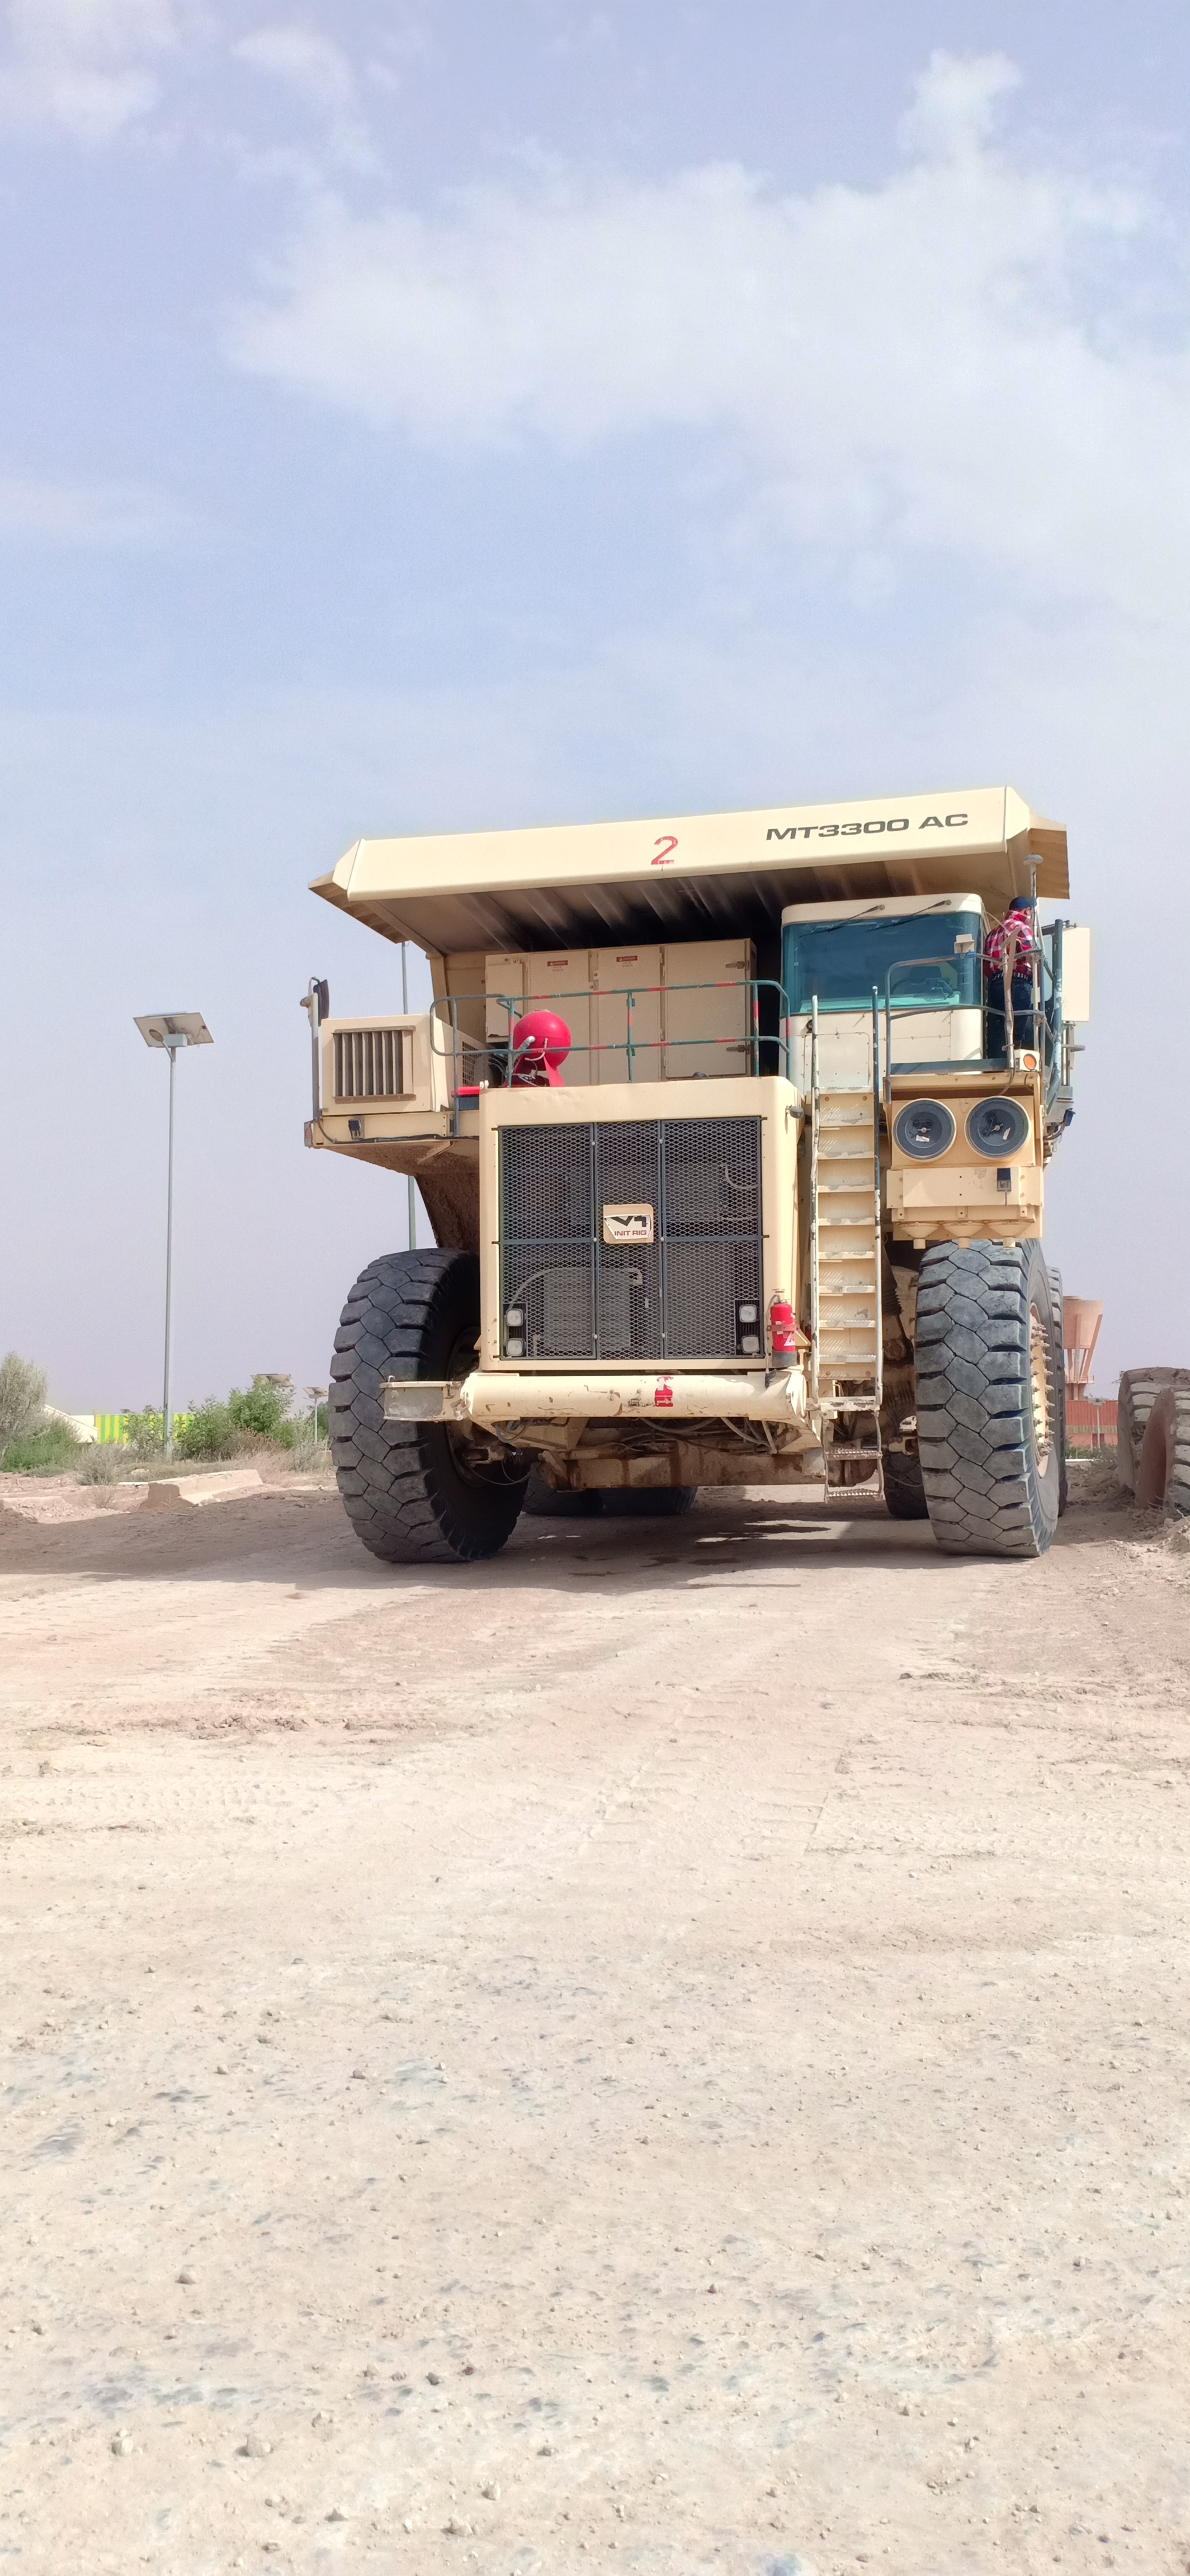camion: (278, 797, 1111, 1585)
